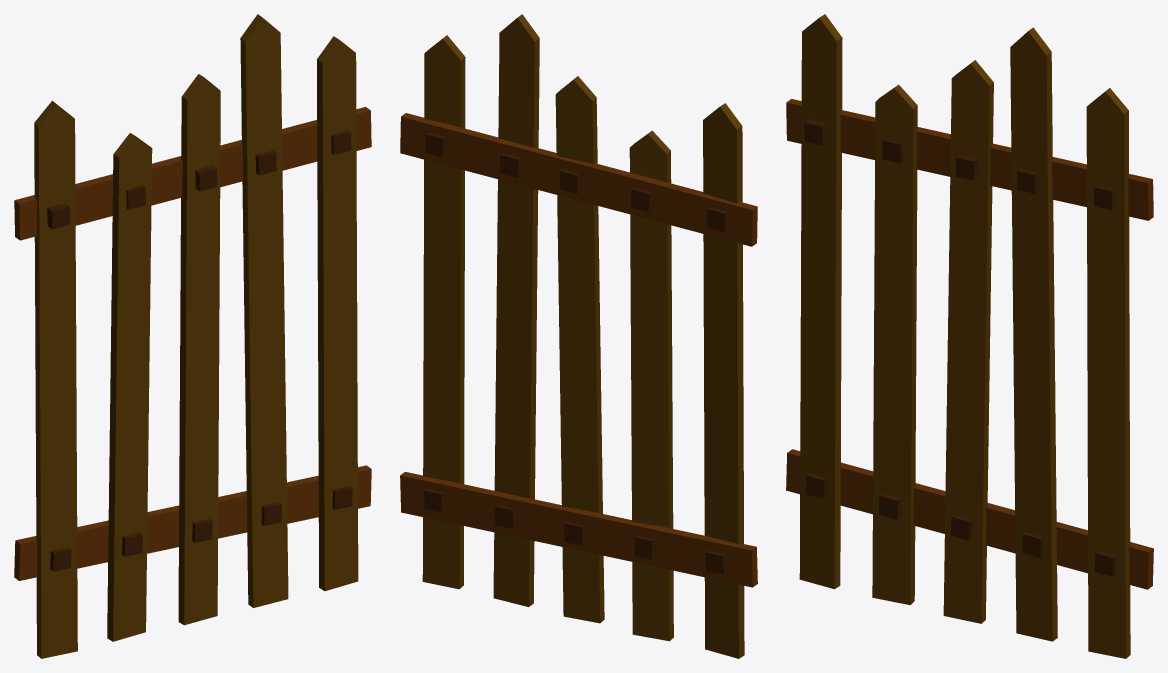
Rendered from wall_wood_1.fbx.
The picture shows the model from 3 angles, left to right: view 1: azimuth 30°, elevation 25°; view 2: azimuth 150°, elevation 25°; view 3: azimuth 330°, elevation 25°; orthographic projection. The views are drawn at different scales.
Visible parts, largest first — view 1: wall_wood_1; view 2: wall_wood_1; view 3: wall_wood_1.
Part boxes in pixels (bbox=[...]): wall_wood_1: bbox=[14, 14, 371, 658]; wall_wood_1: bbox=[400, 14, 757, 658]; wall_wood_1: bbox=[786, 14, 1153, 658].
Bounding box in the file's own units: 1 × 1.6 × 0.075.
